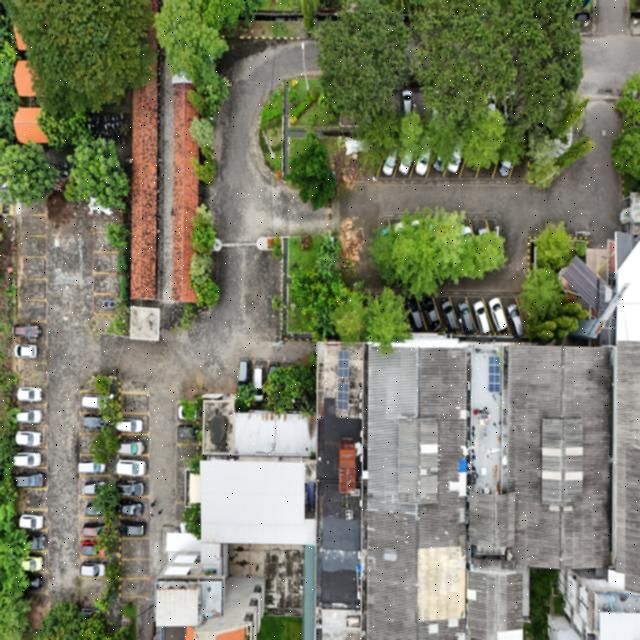Tree: (610, 124, 640, 181), (188, 114, 216, 149), (190, 156, 216, 184), (238, 381, 252, 406)
